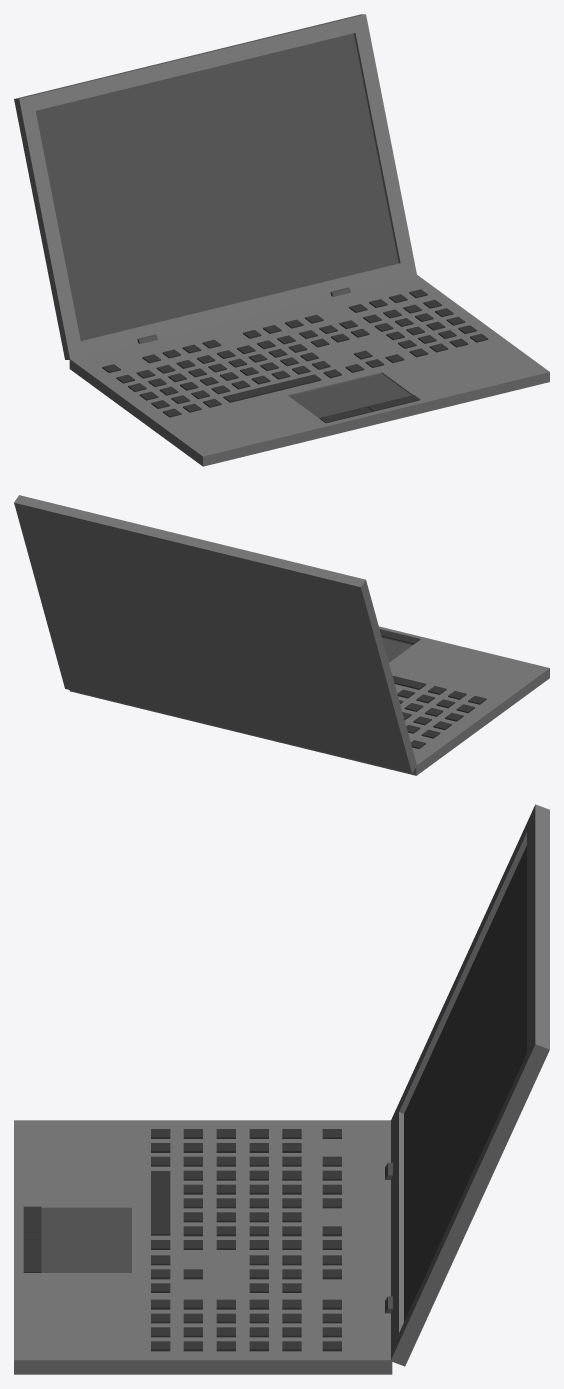
File: Laptop_01.fbx
3 views of the same model, one above another, from view 1: azimuth 30°, elevation 25°; view 2: azimuth 150°, elevation 25°; view 3: azimuth 270°, elevation 25° (orthographic). The views are drawn at different scales.
Visible parts, largest first — view 1: Laptop_01; view 2: Laptop_01; view 3: Laptop_01.
Boxes of the visible parts, x1,y1,x2,y2 form: Laptop_01: [14, 14, 549, 466]; Laptop_01: [14, 495, 549, 775]; Laptop_01: [14, 804, 549, 1374].
Size of the model in its own units: 36 by 23.12 by 33.99.
